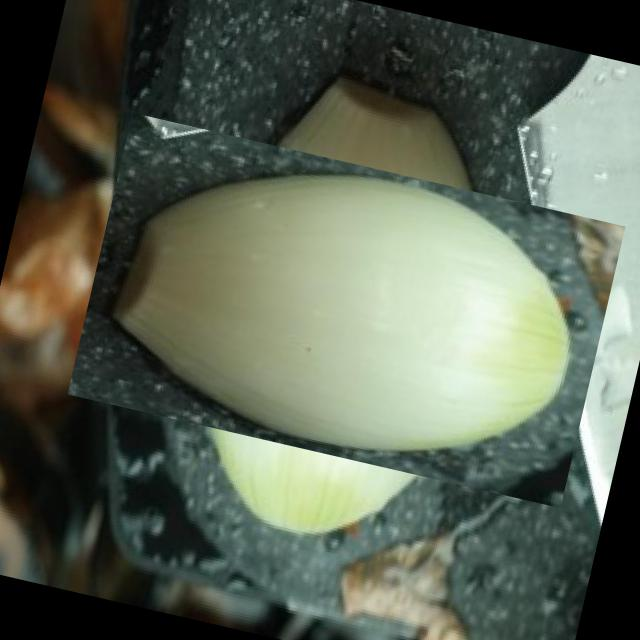Onion: (108, 72, 584, 549)
